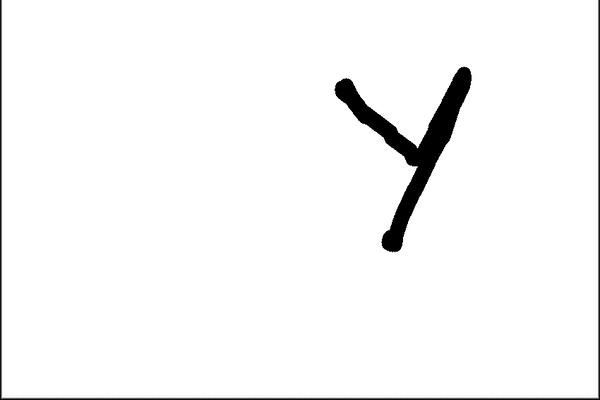Y: (315, 56, 486, 266)
